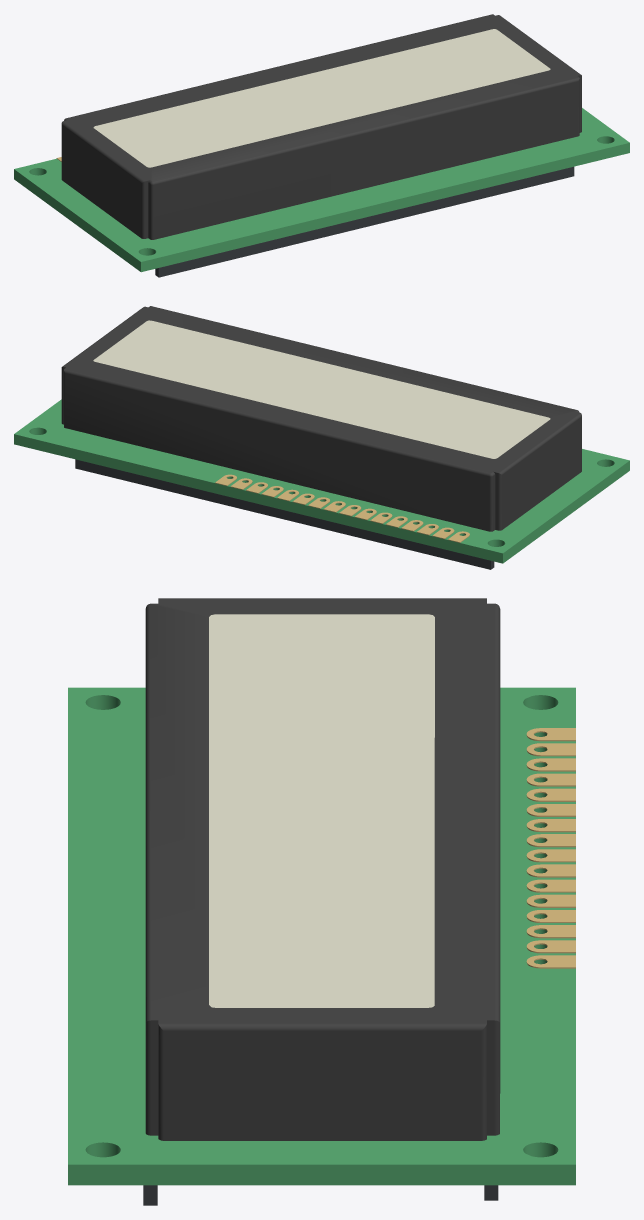
The model's file is lcd1602.glb.
The picture shows the model from 3 angles, top to bottom: view 1: azimuth 30°, elevation 25°; view 2: azimuth 150°, elevation 25°; view 3: azimuth 270°, elevation 25°; orthographic projection. The views are drawn at different scales.
Visible parts, largest first — view 1: REF**; view 2: REF**; view 3: REF**.
Part boxes in pixels (x1,y1,x2,y2): REF**: (14, 14, 629, 277); REF**: (14, 306, 629, 569); REF**: (68, 598, 575, 1205).
Bounding box in the file's own units: 0.08 × 0.015 × 0.036.
Materials: 1 (1 with a texture image).
